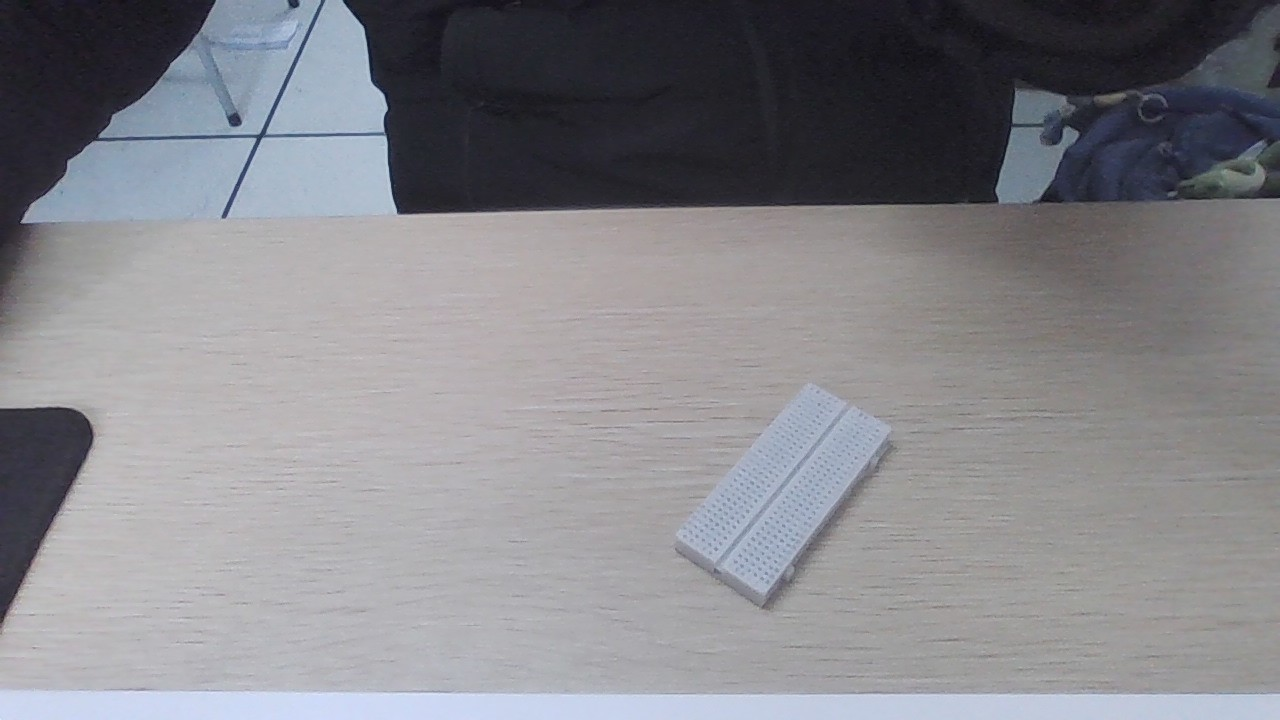KHS-breadboard: (677, 386, 884, 595)
